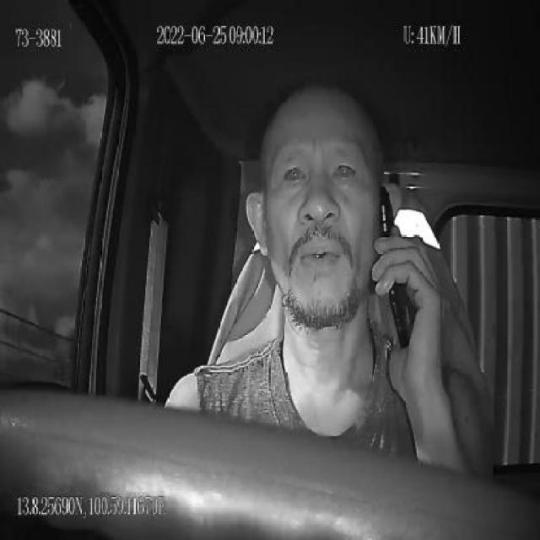phone: (378, 186, 410, 349)
